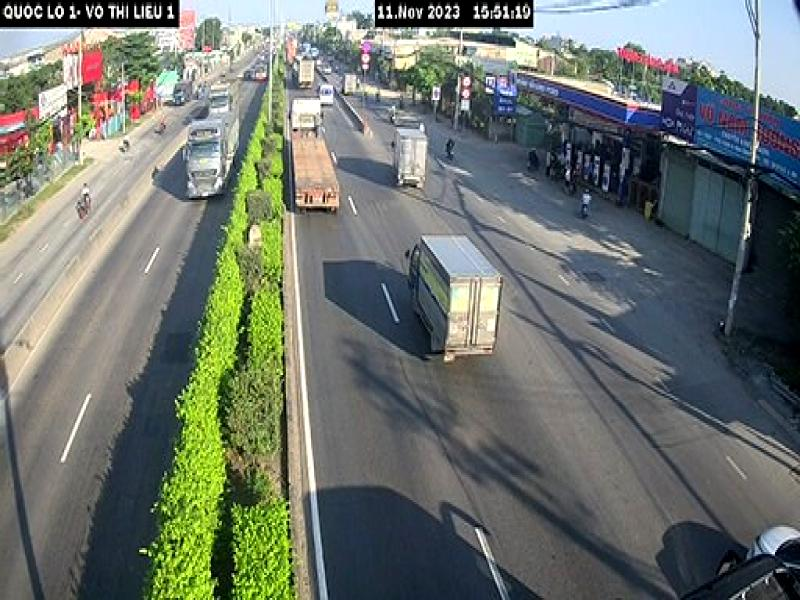truck: (407, 237, 503, 362), (288, 95, 342, 218), (185, 107, 242, 198), (391, 125, 430, 190)
